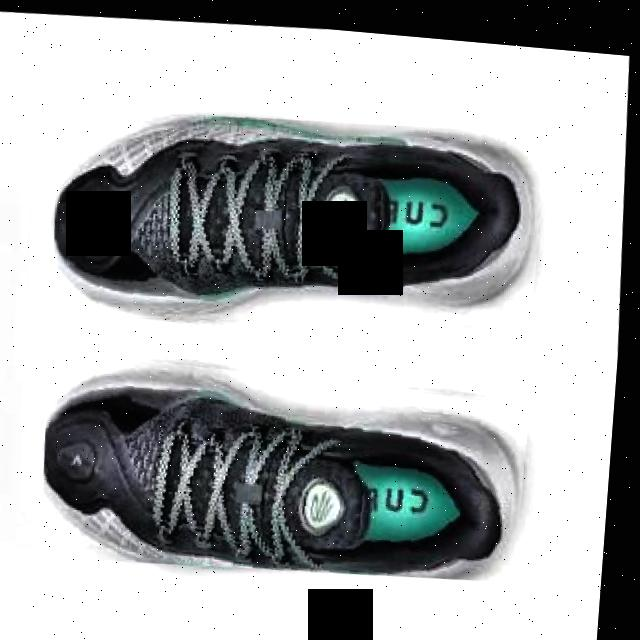shoe: (48, 88, 552, 347), (41, 332, 543, 589)
